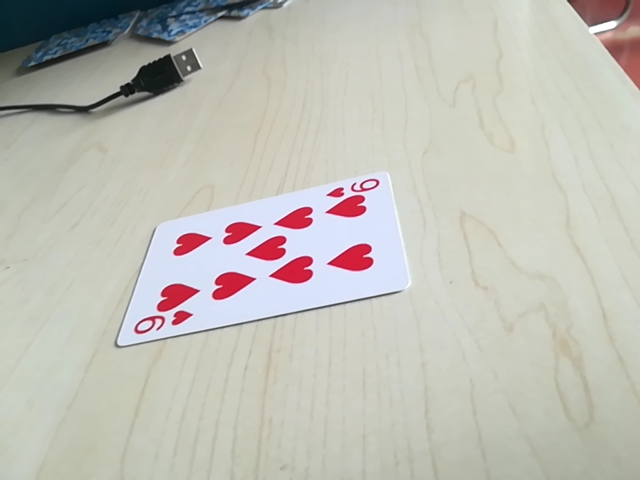hx 9: (129, 313, 192, 340), (329, 176, 386, 200)
